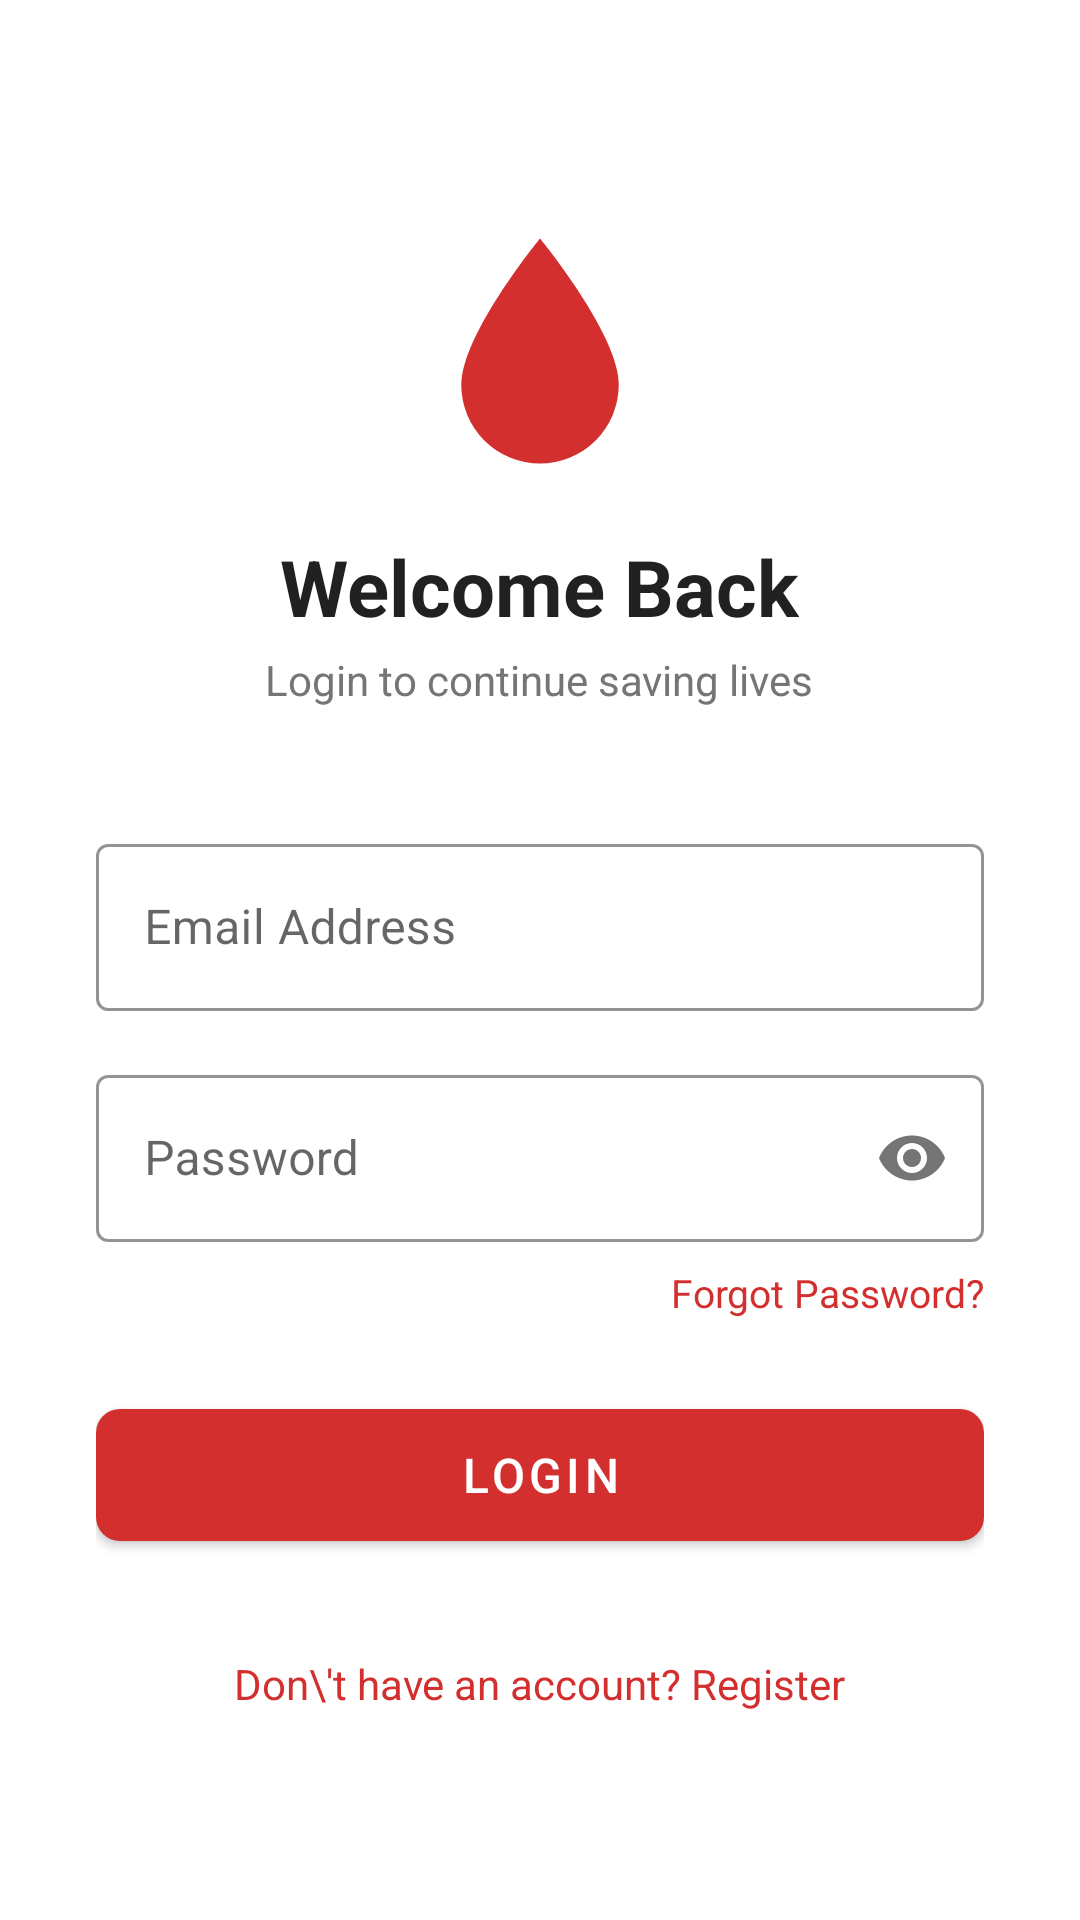

Named icons in this screenshot (1080×1920) and their centers, (x,y):
blooddrop: (540,351)
